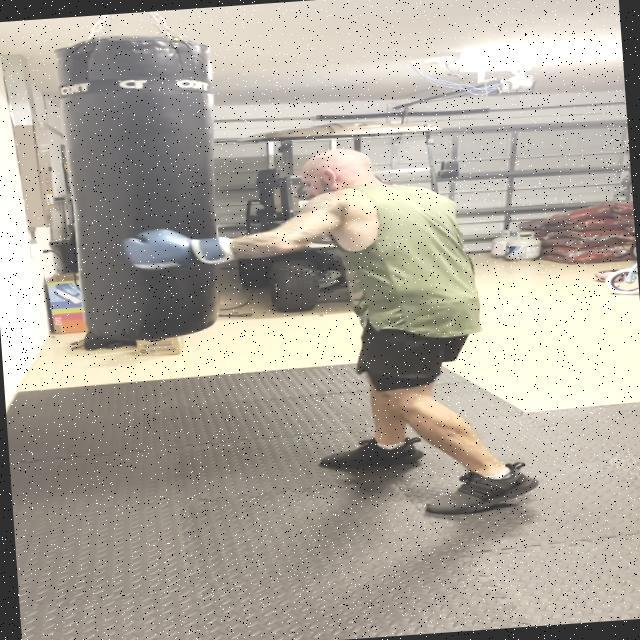punch: (97, 123, 489, 313)
